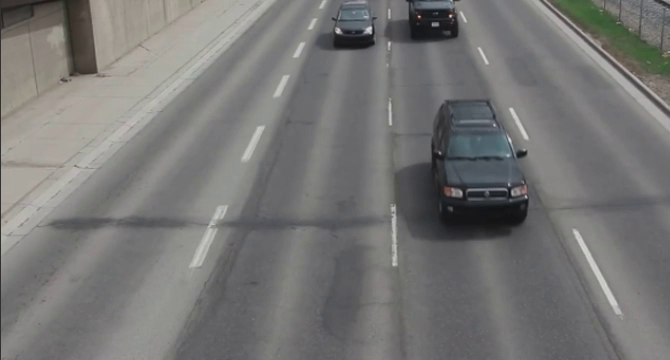car: (427, 97, 532, 231), (333, 1, 377, 51), (405, 3, 457, 43)
